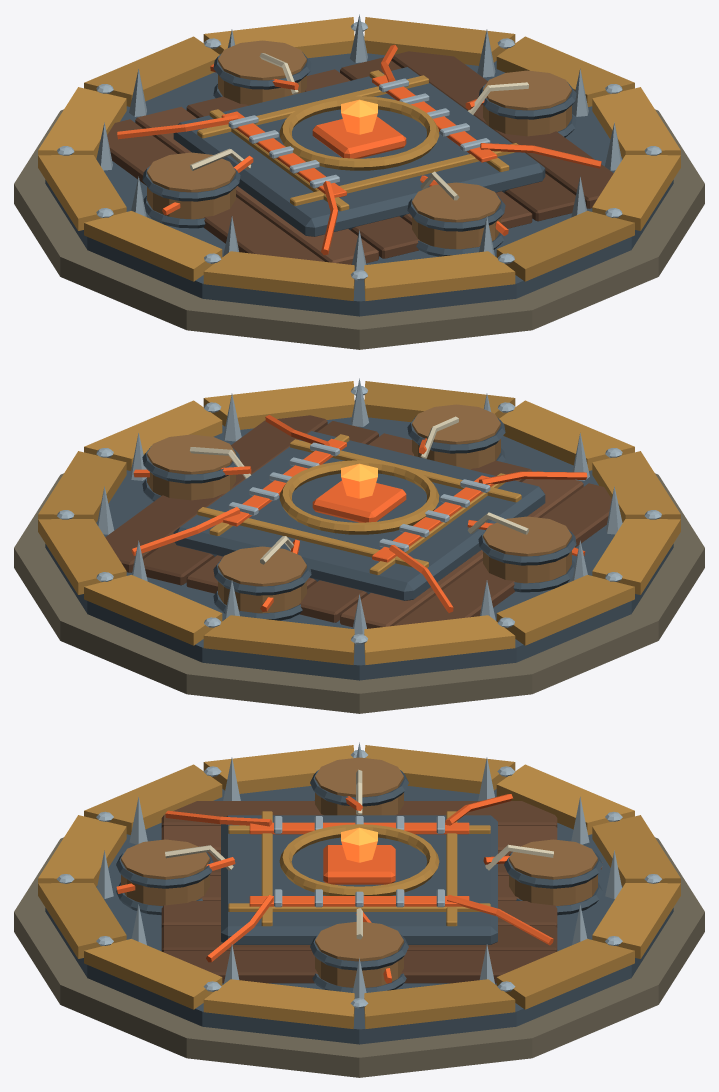
The model's file is trap__explosiva__L20.glb.
The picture shows the model from 3 angles, top to bottom: view 1: azimuth 30°, elevation 25°; view 2: azimuth 150°, elevation 25°; view 3: azimuth 270°, elevation 25°; orthographic projection.
Visible parts, largest first — view 1: structure, weapon; view 2: structure, weapon; view 3: structure, weapon.
Boxes of the visible parts, left/top/right/bottom form: structure: left=14, top=17, right=704, bottom=349; weapon: left=96, top=14, right=621, bottom=270; structure: left=14, top=381, right=704, bottom=713; weapon: left=97, top=378, right=622, bottom=634; structure: left=14, top=745, right=704, bottom=1077; weapon: left=97, top=742, right=621, bottom=998.
Size of the model in its own units: 0.8228 by 0.1364 by 0.8228.
